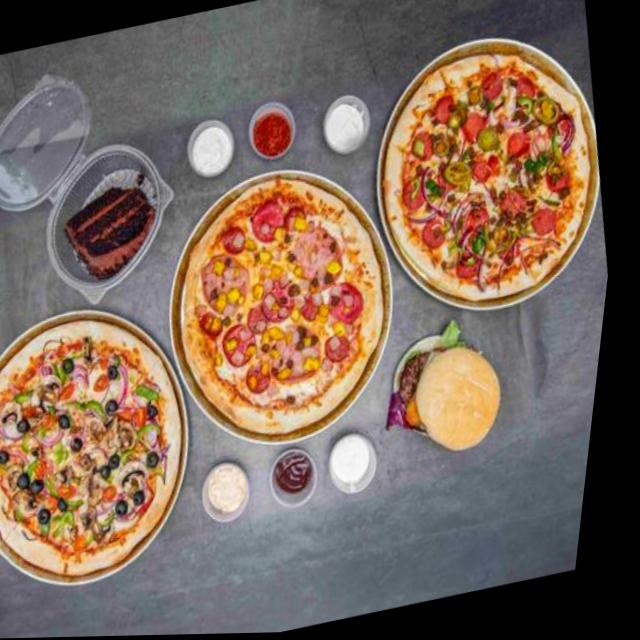burger: (374, 311, 530, 469)
pizza: (351, 30, 629, 325), (151, 160, 425, 454), (0, 298, 231, 597)
